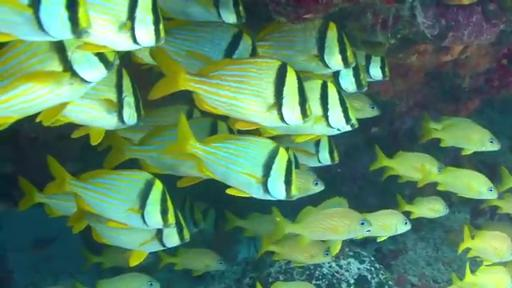Fish: (148, 47, 311, 129), (166, 116, 299, 199), (0, 40, 117, 129), (44, 156, 182, 228), (187, 134, 324, 199), (38, 65, 143, 145), (70, 211, 189, 267), (104, 125, 205, 186), (260, 80, 358, 142), (256, 20, 355, 74), (161, 20, 255, 72), (80, 0, 164, 51), (0, 0, 91, 42), (272, 208, 371, 242), (115, 104, 201, 143), (420, 114, 500, 155), (370, 145, 443, 186), (259, 234, 341, 265), (19, 177, 76, 216), (432, 167, 498, 199), (272, 136, 339, 167), (458, 225, 511, 264), (157, 0, 245, 23), (159, 248, 226, 275), (360, 210, 411, 241), (452, 263, 511, 287), (179, 197, 217, 233), (224, 211, 275, 237), (396, 195, 449, 219), (332, 61, 368, 92), (291, 166, 324, 199), (82, 246, 131, 268), (356, 51, 389, 81), (95, 272, 160, 287), (344, 93, 380, 119), (481, 194, 511, 214), (478, 221, 511, 238), (316, 196, 348, 209), (497, 167, 511, 192), (271, 281, 315, 287), (442, 0, 477, 5)
